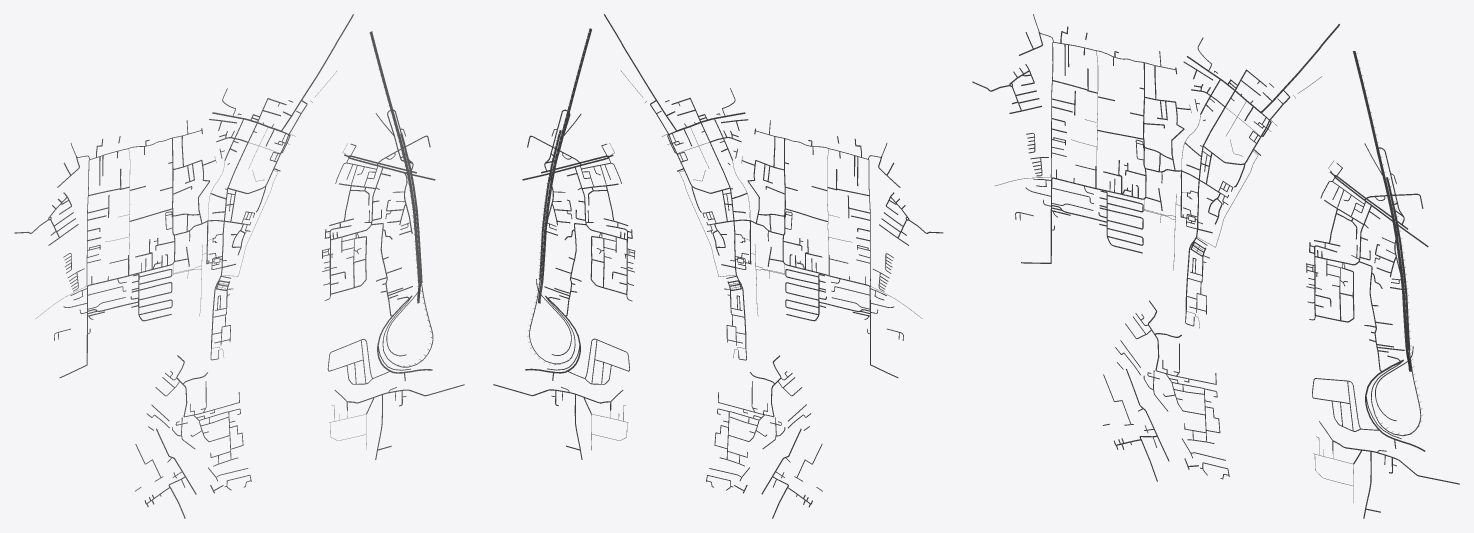
The model's file is roads_4_2.obj.
3 renders of one model, left to right at view 1: azimuth 30°, elevation 25°; view 2: azimuth 150°, elevation 25°; view 3: azimuth 330°, elevation 25°, orthographic. The views are drawn at different scales.
Size of the model in its own units: 2528 by 2490 by 28.26.
Materials: 5 (5 with a texture image).
